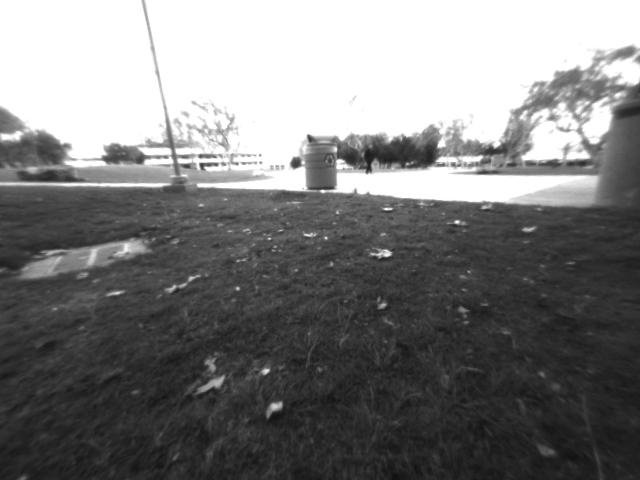trashcan: (298, 125, 348, 207)
